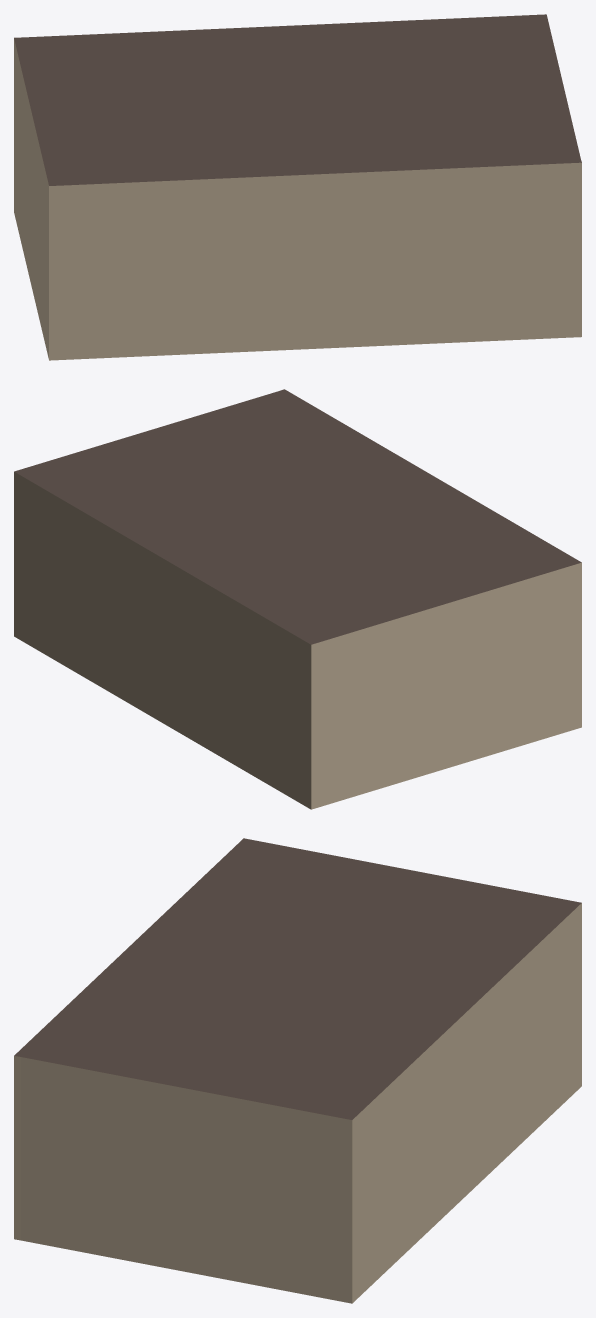
3 renders of one model, top to bottom at view 1: azimuth 30°, elevation 25°; view 2: azimuth 150°, elevation 25°; view 3: azimuth 270°, elevation 25°, orthographic. The views are drawn at different scales.
Parts seen in each view (by area): view 1: HP-w859082560; view 2: HP-w859082560; view 3: HP-w859082560.
Part boxes in pixels (x1,y1,x2,y2): HP-w859082560: [14, 14, 581, 360]; HP-w859082560: [14, 389, 581, 809]; HP-w859082560: [14, 838, 581, 1303].
Bounding box in the file's own units: 29.65 × 9 × 25.25.
